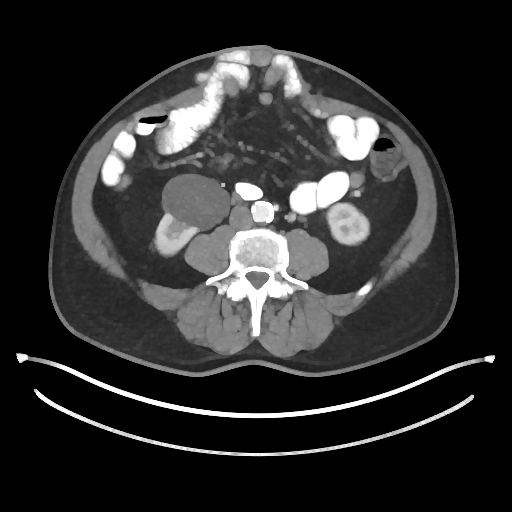Lesion: (161, 173, 232, 232)
